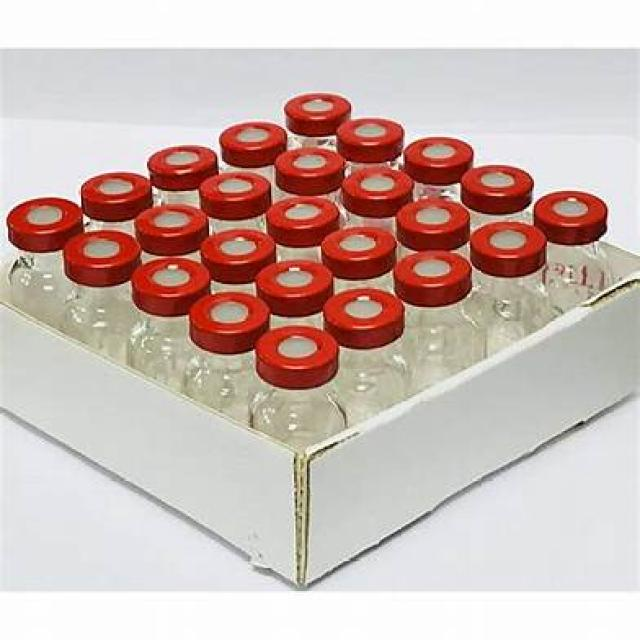vial: (471, 214, 554, 273), (320, 227, 404, 270), (260, 334, 340, 376), (392, 251, 460, 297), (258, 262, 334, 302), (196, 295, 272, 335), (462, 163, 532, 206), (540, 187, 602, 235), (327, 298, 405, 336), (137, 264, 217, 300), (336, 116, 411, 154), (68, 235, 142, 273), (195, 177, 278, 210), (269, 200, 342, 237), (394, 202, 464, 240), (146, 148, 222, 182), (402, 135, 470, 172), (344, 170, 414, 204), (19, 202, 84, 238), (270, 149, 346, 179), (84, 178, 152, 210), (282, 89, 348, 119), (209, 235, 275, 265), (216, 123, 285, 151), (146, 204, 200, 237)
